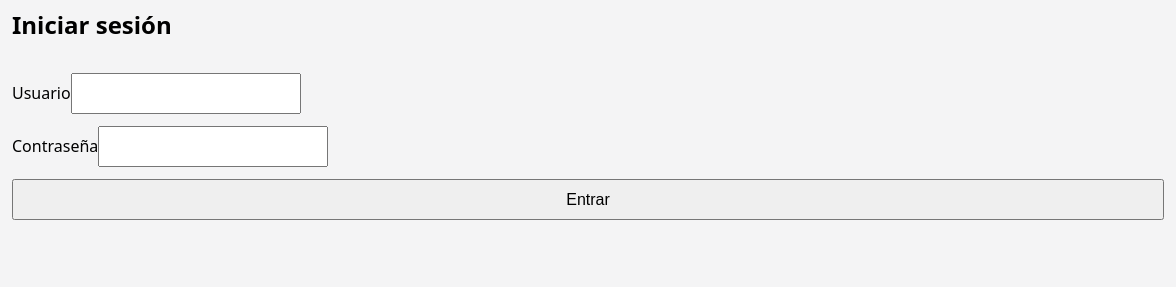
Test: Login › no llama a la API con campos vacíos (caso límite)
What coordinates should you click on to do the following:
click the button "Entrar"
I would click on:
 (588, 200)
Its box is [12,179,1164,220].
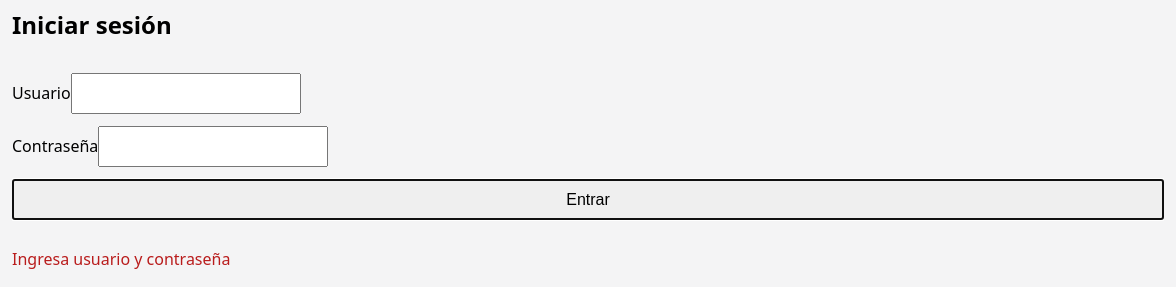
Expected: the message shows "Ingresa usuario", [12,248,230,270]
